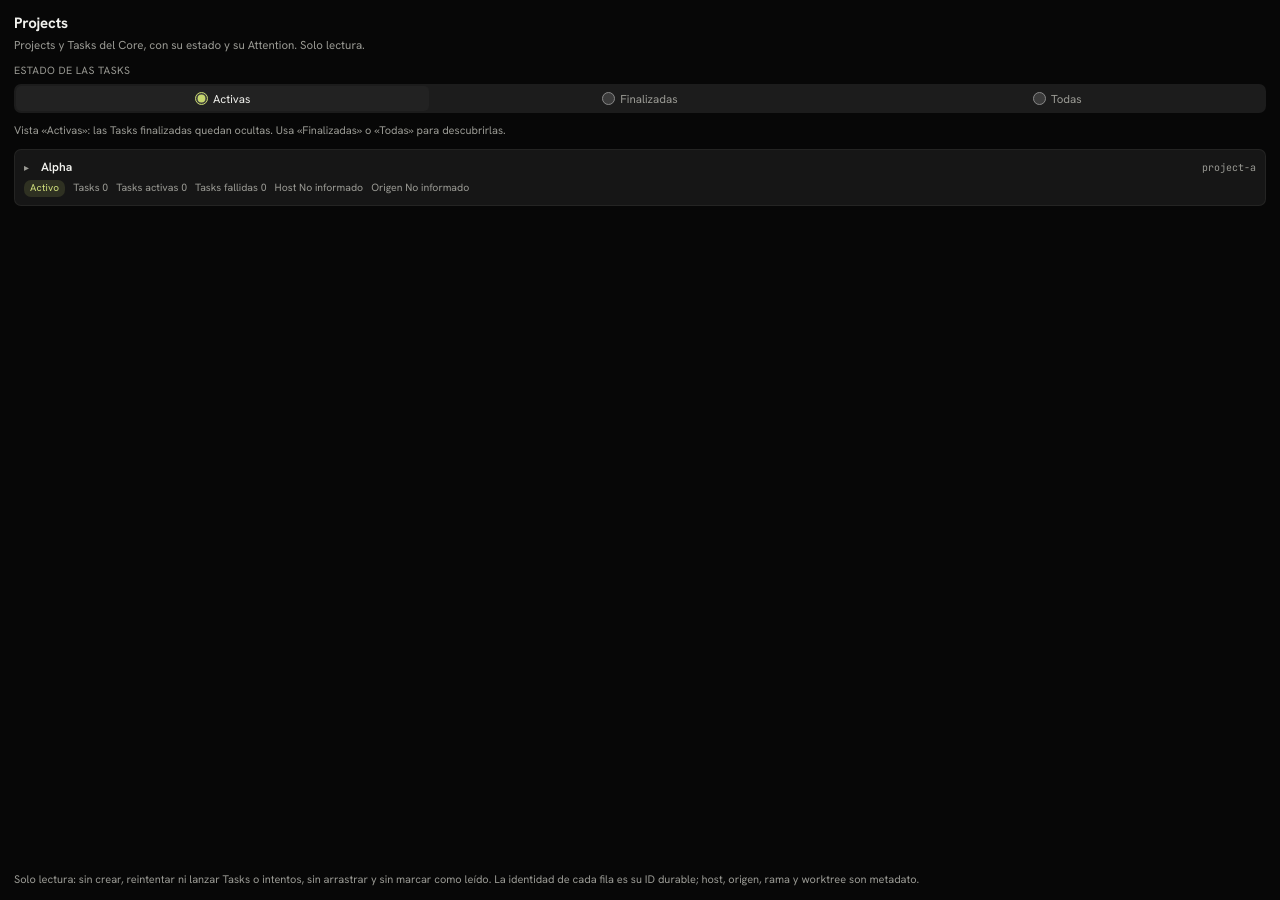
Test case: ProjectsSidebar › pagina con el cursor opaco del Core y deduplica por ID durable en orden keyset
The width and height of the screenshot is (1280, 900).
Step 1. Click the text "Alpha" → (57, 167), box [41,159,72,175]
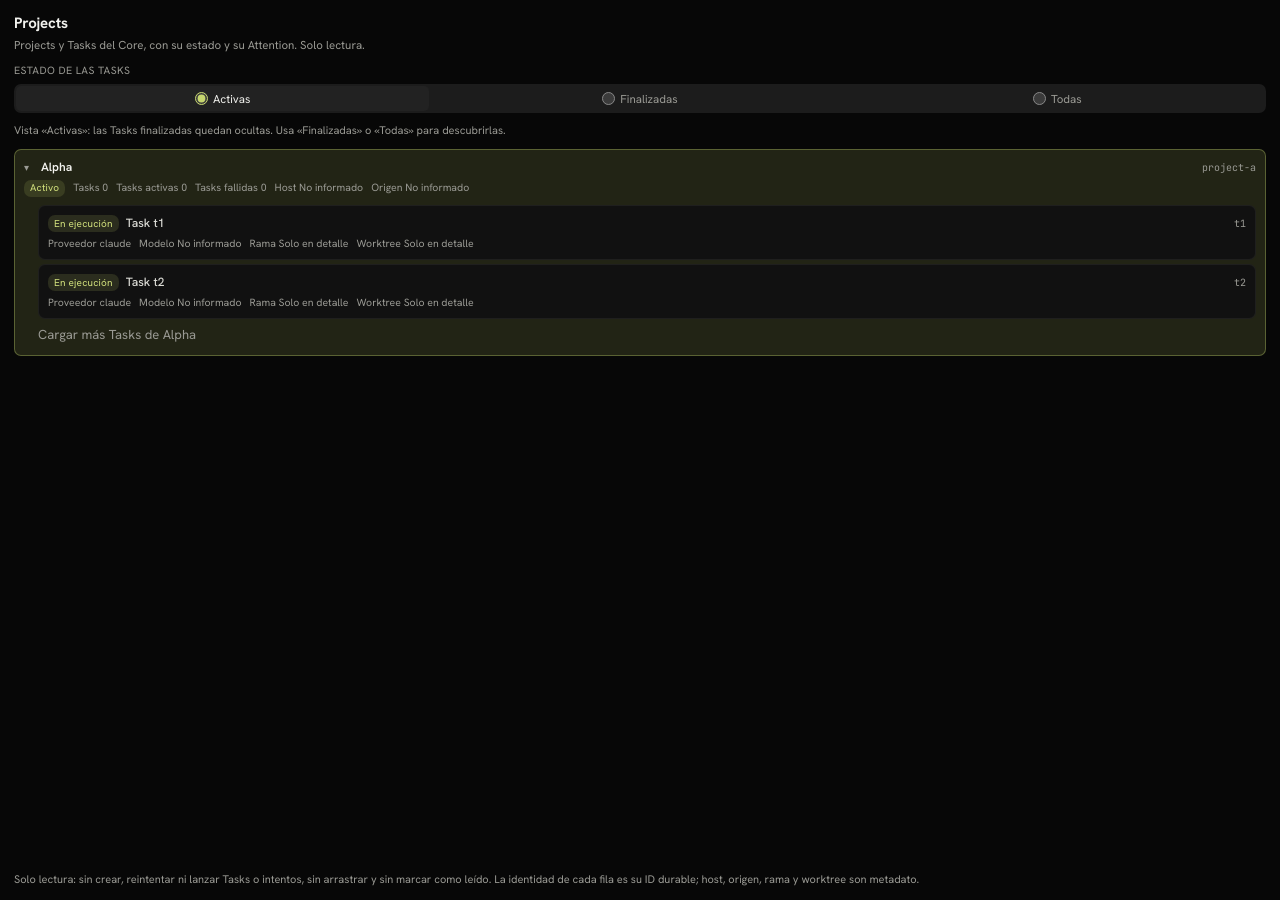
Now the text "Task t1" is shown, box [126,215,164,231]
Step 2. Click the button "Cargar más Tasks de Alpha" → (117, 335), box [38,325,196,344]
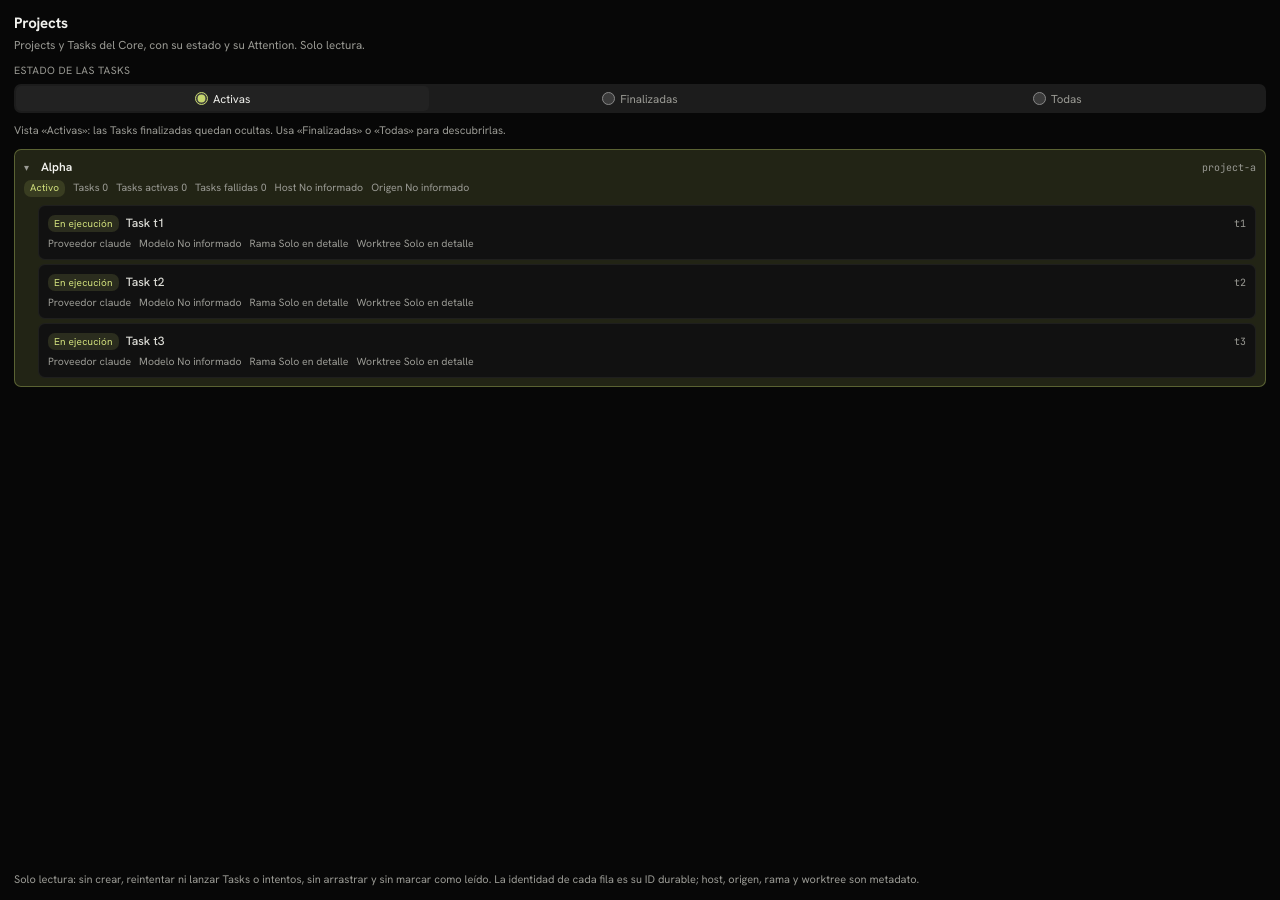
Now the text "Task t3" is shown, box [126,333,164,349]
Now the text "Task t2" is shown once, box [126,274,164,290]
